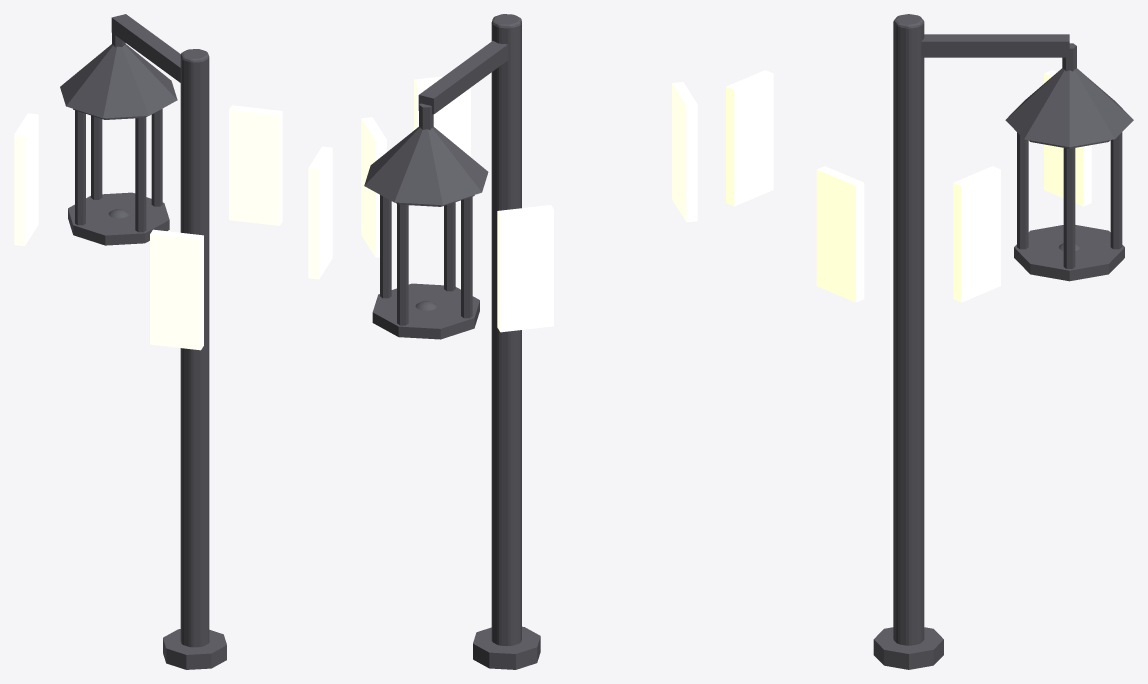
The model's file is lantern.glb.
3 views of the same model, side by side, from view 1: azimuth 30°, elevation 25°; view 2: azimuth 150°, elevation 25°; view 3: azimuth 270°, elevation 25° (orthographic). The views are drawn at different scales.
Parts seen in each view (by area): view 1: Cylinder, Cube.004, Cube.002, Cone, Cylinder.003, Cube.003, Cube.001, Cube, Cylinder.008, Cylinder.007, Cylinder.006, Cylinder.004 (+1 smaller); view 2: Cylinder, Cube.001, Cone, Cylinder.003, Cube.002, Cube, Cube.004, Cylinder.008, Cube.003, Cylinder.005, Cylinder.006, Cylinder.004 (+1 smaller); view 3: Cylinder, Cone, Cube.003, Cube.004, Cube.002, Cylinder.003, Cube, Cylinder.008, Cube.001, Cylinder.004, Cylinder.005, Cylinder.007.
Boxes of the visible parts, bbox=[...] form: Cylinder: bbox=[180, 49, 209, 647]; Cube.004: bbox=[229, 105, 282, 225]; Cube.002: bbox=[150, 229, 203, 350]; Cone: bbox=[60, 44, 177, 118]; Cylinder.003: bbox=[68, 192, 169, 245]; Cube.003: bbox=[308, 146, 332, 279]; Cube.001: bbox=[14, 113, 38, 246]; Cube: bbox=[111, 14, 180, 82]; Cylinder.008: bbox=[163, 629, 226, 669]; Cylinder.007: bbox=[135, 117, 146, 232]; Cylinder.006: bbox=[75, 110, 85, 225]; Cylinder.004: bbox=[151, 108, 162, 206]; Cylinder: bbox=[491, 14, 521, 645]; Cube.001: bbox=[497, 205, 553, 332]; Cone: bbox=[364, 127, 488, 205]; Cylinder.003: bbox=[372, 283, 479, 339]; Cube.002: bbox=[672, 82, 697, 222]; Cube: bbox=[418, 41, 508, 114]; Cube.004: bbox=[361, 117, 386, 257]; Cylinder.008: bbox=[473, 626, 540, 669]; Cube.003: bbox=[414, 76, 470, 156]; Cylinder.005: bbox=[397, 204, 408, 325]; Cylinder.006: bbox=[461, 196, 472, 318]; Cylinder.004: bbox=[380, 195, 391, 298]; Cylinder: bbox=[893, 14, 924, 645]; Cone: bbox=[1005, 68, 1133, 147]; Cube.003: bbox=[816, 166, 864, 302]; Cube.004: bbox=[953, 166, 1000, 302]; Cube.002: bbox=[726, 70, 773, 206]; Cylinder.003: bbox=[1014, 225, 1124, 281]; Cube: bbox=[921, 34, 1069, 57]; Cylinder.008: bbox=[873, 627, 943, 669]; Cube.001: bbox=[1044, 70, 1091, 206]; Cylinder.004: bbox=[1063, 148, 1075, 268]; Cylinder.005: bbox=[1110, 132, 1122, 249]; Cylinder.007: bbox=[1017, 132, 1028, 249].
Bounding box in the file's own units: 0.9405 × 2.4 × 1.4.
